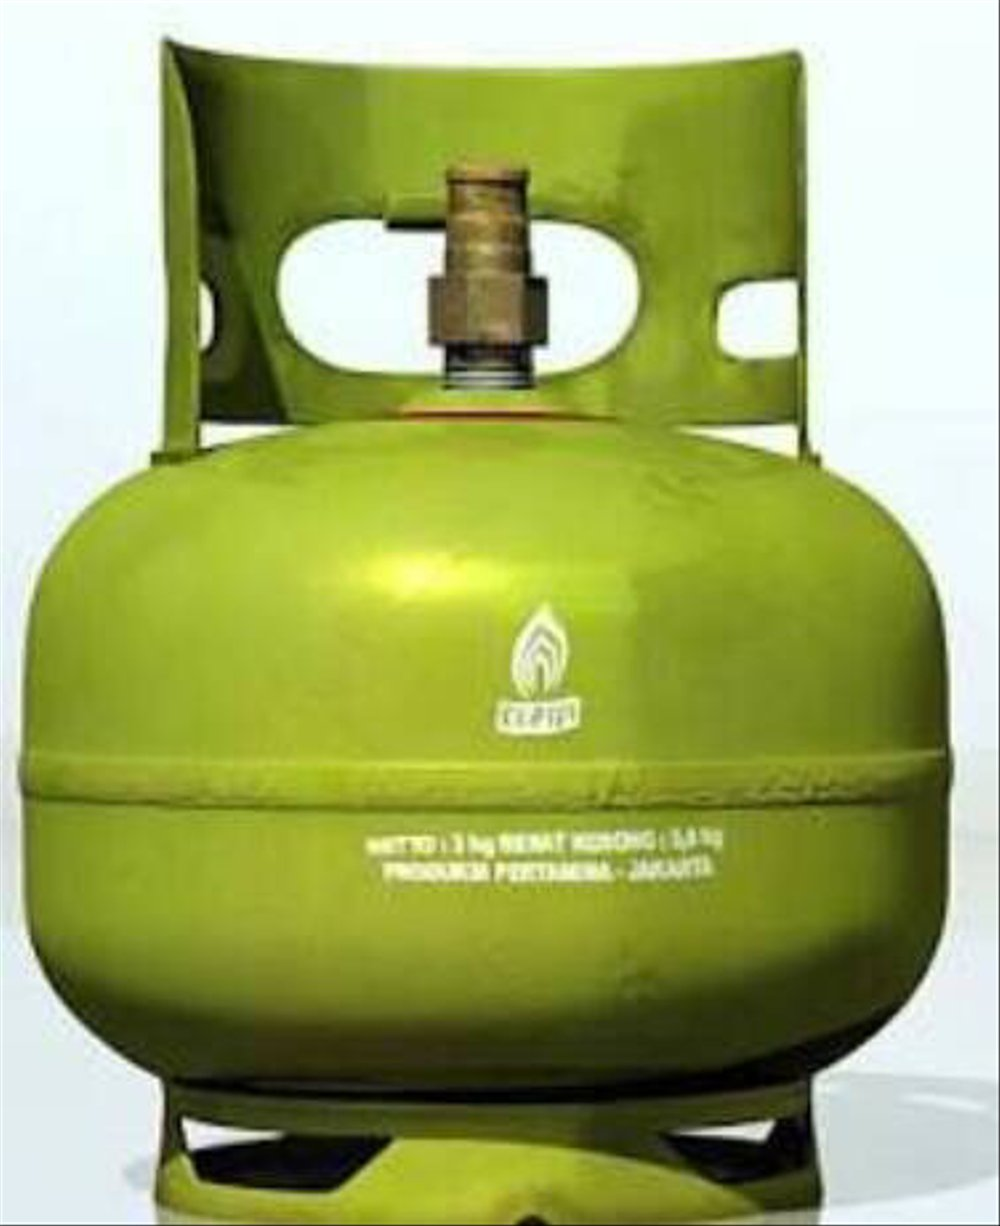gas_ijo: (24, 37, 959, 1226)
